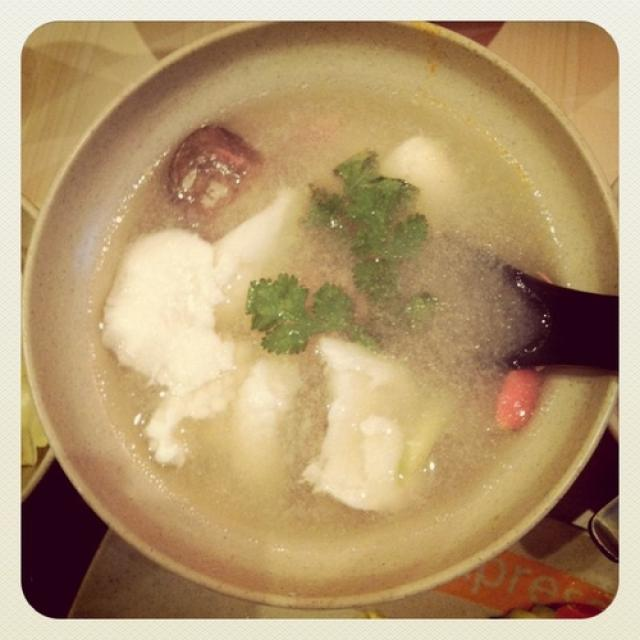汤锅炖物: (59, 47, 581, 589)
